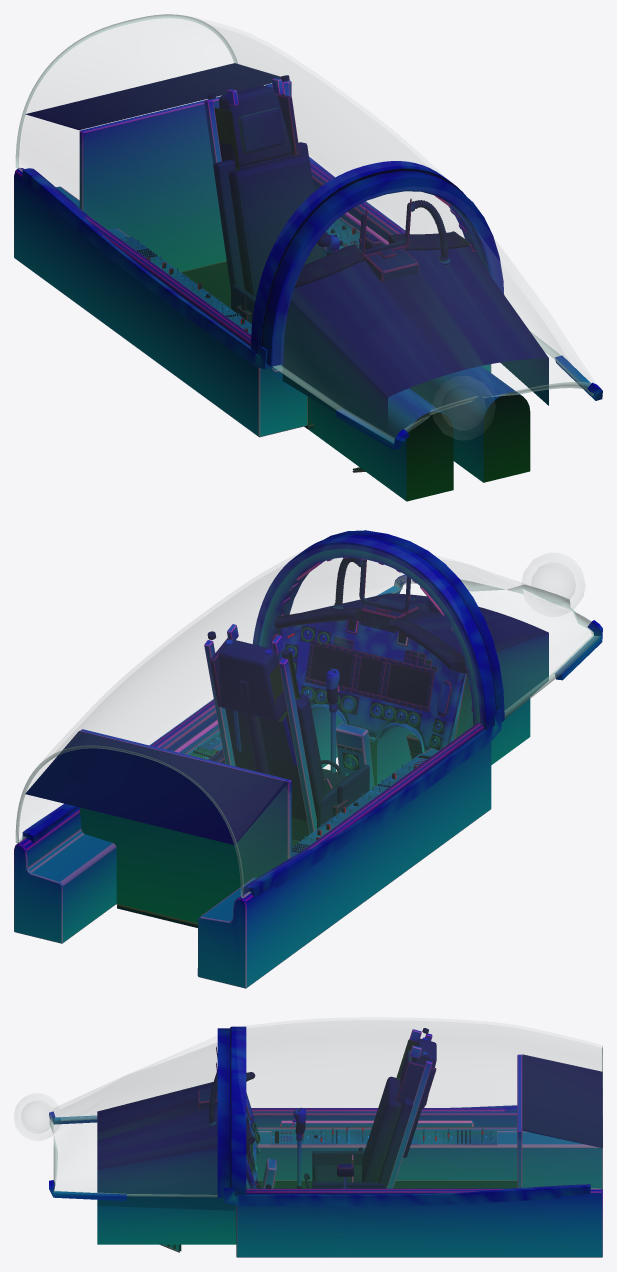
The model's file is su27_cockpit.glb.
3 views of the same model, one above another, from view 1: azimuth 30°, elevation 25°; view 2: azimuth 150°, elevation 25°; view 3: azimuth 270°, elevation 25° (orthographic). The views are drawn at different scales.
Visible parts, largest first — view 1: CNP_Glass, Static_CP_Paint, WS_Glass, Static_CP_PaintDark, Static_CP_Frame, CNP_Root_CP_Frame, ANIM_Seat_CP_Leather, ANIM_Seat_CP_PaintDark, Static_CP_Glare, Static_CP_FloorMat, ANIM_Seat_CP_Metal, Static_CP_Rubber (+1 smaller); view 2: CNP_Glass, Static_CP_Paint, Static_CP_PaintDark, CNP_Root_CP_Frame, WS_Glass, ANIM_Seat_CP_PaintDark, Static_CP_Frame, ANIM_Seat_CP_Metal, Static_CP_SteelDark, Static_CP_Glare, Static_CP_Rubber, SCR_MFD_R (+4 smaller); view 3: CNP_Glass, Static_CP_Paint, WS_Glass, Static_CP_PaintDark, CNP_Root_CP_Frame, ANIM_Seat_CP_PaintDark, Static_CP_Frame, ANIM_Seat_CP_Leather, Static_CP_SteelDark, ANIM_Seat_CP_Metal, Static_CP_Pad, Static_CP_Rubber (+1 smaller).
Boxes of the visible parts, x1,y1,x2,y2 form: CNP_Glass: (15,14,440,340); Static_CP_Paint: (14,80,548,501); WS_Glass: (272,192,594,442); Static_CP_PaintDark: (25,63,548,501); Static_CP_Frame: (263,171,602,449); CNP_Root_CP_Frame: (22,156,474,369); ANIM_Seat_CP_Leather: (228,108,323,297); ANIM_Seat_CP_PaintDark: (213,85,309,323); Static_CP_Glare: (294,231,469,288); Static_CP_FloorMat: (182,261,313,429); ANIM_Seat_CP_Metal: (204,78,289,164); Static_CP_Rubber: (137,200,448,470); CNP_Glass: (15,545,481,898); Static_CP_Paint: (14,620,548,988); Static_CP_PaintDark: (25,559,548,845); CNP_Root_CP_Frame: (22,535,501,897); WS_Glass: (392,553,600,718); ANIM_Seat_CP_PaintDark: (210,638,369,828); Static_CP_Frame: (283,530,602,721); ANIM_Seat_CP_Metal: (204,624,316,833); Static_CP_SteelDark: (116,558,452,904); Static_CP_Glare: (274,607,467,673); Static_CP_Rubber: (193,557,439,852); SCR_MFD_R: (388,665,429,705); CNP_Glass: (246,1018,602,1191); Static_CP_Paint: (97,1054,602,1257); WS_Glass: (14,1036,217,1197); Static_CP_PaintDark: (97,1054,602,1188); CNP_Root_CP_Frame: (223,1026,590,1206); ANIM_Seat_CP_PaintDark: (312,1038,436,1188); Static_CP_Frame: (49,1028,230,1200); ANIM_Seat_CP_Leather: (314,1050,412,1182); Static_CP_SteelDark: (160,1070,517,1252); ANIM_Seat_CP_Metal: (386,1029,432,1188); Static_CP_Pad: (280,1120,473,1128); Static_CP_Rubber: (167,1071,470,1251).
Bounding box in the file's own units: 1.28 × 1.39 × 3.65.
